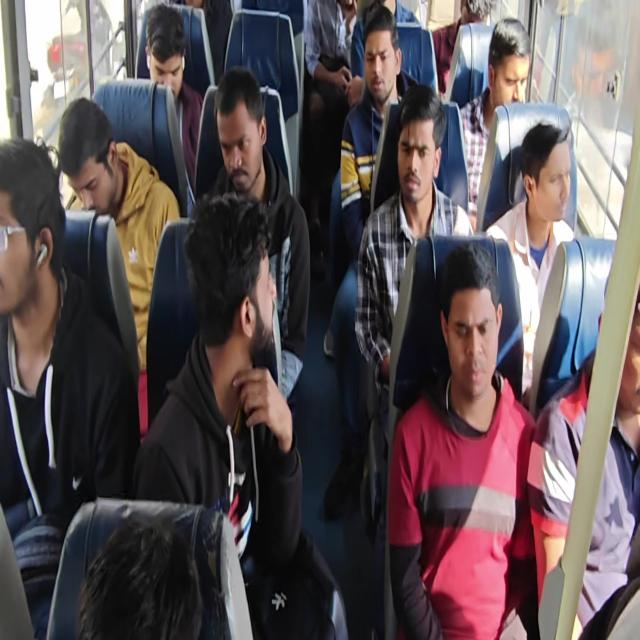person: (218, 193, 298, 378), (0, 146, 70, 318), (580, 255, 640, 426), (444, 260, 517, 400), (62, 106, 130, 223), (516, 125, 584, 231), (216, 77, 272, 186), (488, 18, 538, 113), (148, 12, 184, 96), (444, 0, 499, 52), (363, 36, 407, 100), (402, 127, 434, 196)
